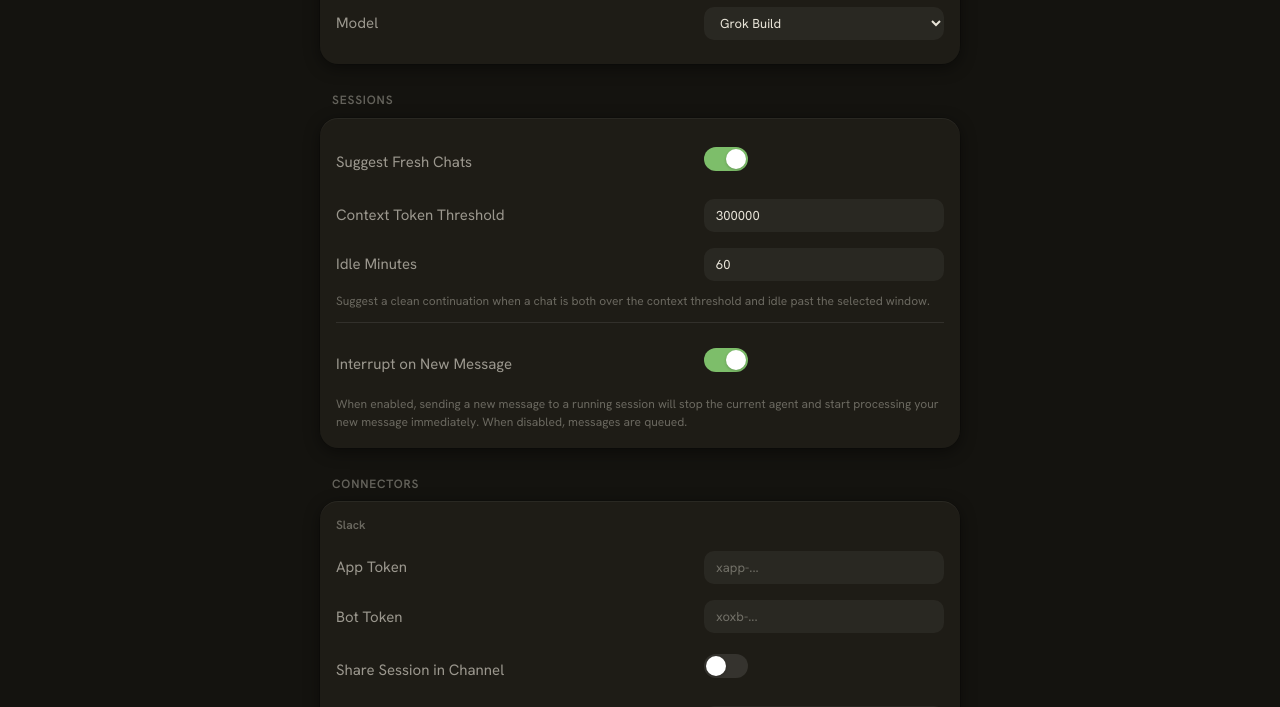
what the page says about the write › says saving, then saved
What coordinates should you click on to do the following:
click the switch named "Interrupt on new message"
I would click on:
 (726, 360)
Its box is [704,344,748,378].
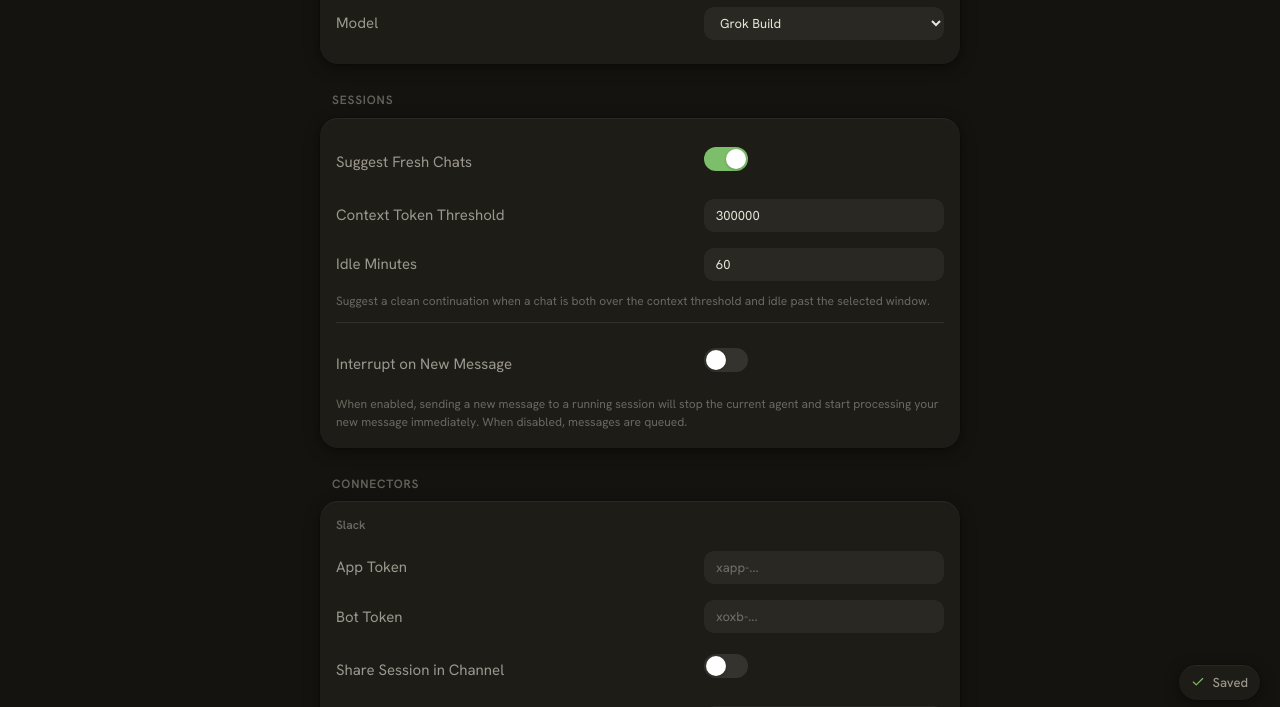
Now the text "Saved" is shown, box [1212,673,1248,692]
